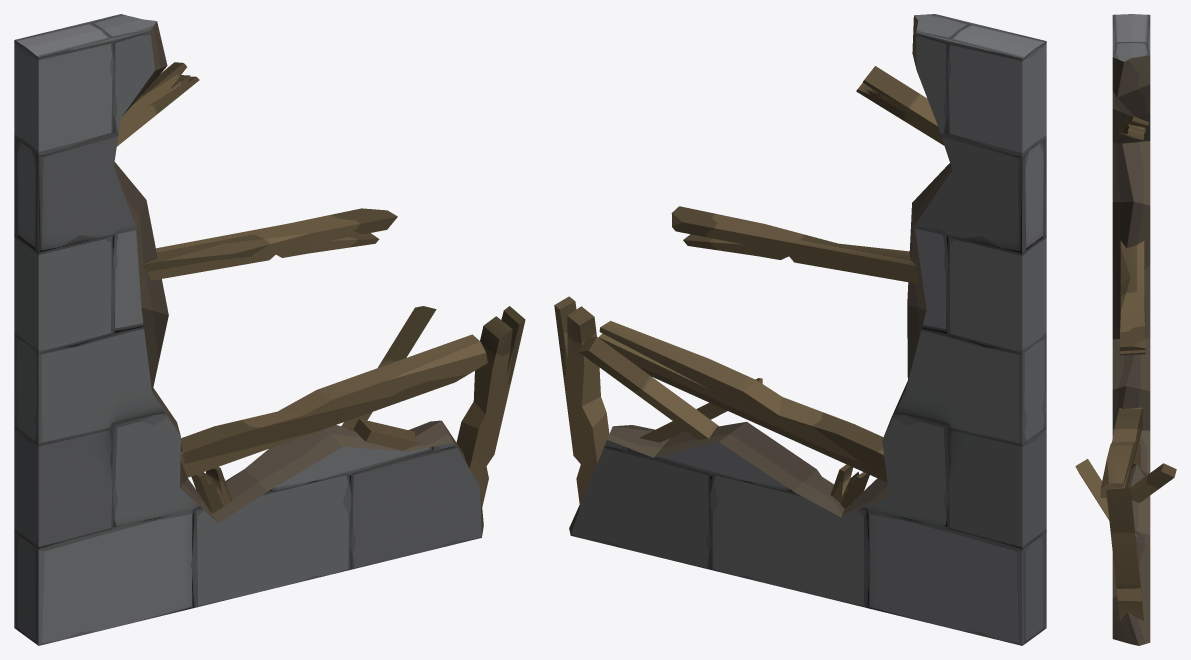
File: crypt_wall_ruin.gltf
3 renders of one model, left to right at view 1: azimuth 30°, elevation 25°; view 2: azimuth 150°, elevation 25°; view 3: azimuth 270°, elevation 25°, orthographic. The views are drawn at different scales.
Parts seen in each view (by area): view 1: crypt_wall_ruin; view 2: crypt_wall_ruin; view 3: crypt_wall_ruin.
Part boxes in pixels (left/top/right/bottom): crypt_wall_ruin: left=14, top=14, right=525, bottom=645; crypt_wall_ruin: left=554, top=14, right=1046, bottom=645; crypt_wall_ruin: left=1075, top=14, right=1176, bottom=645.
Size of the model in its own units: 2.58 by 3.01 by 0.6051.
Materials: 2 (2 with a texture image).
